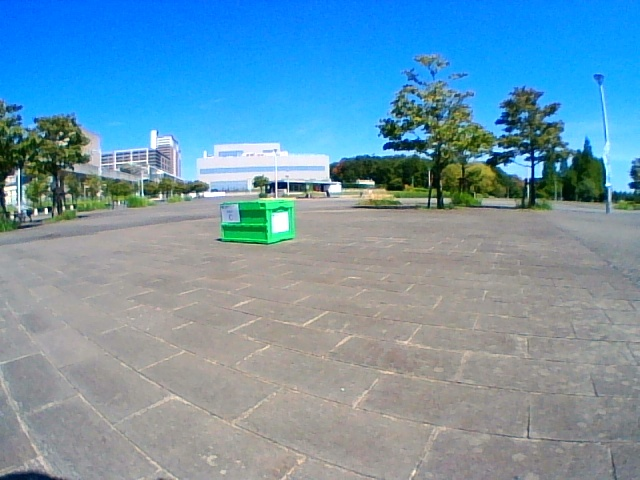green_box: (220, 200, 294, 243)
tag: (222, 205, 238, 223)
